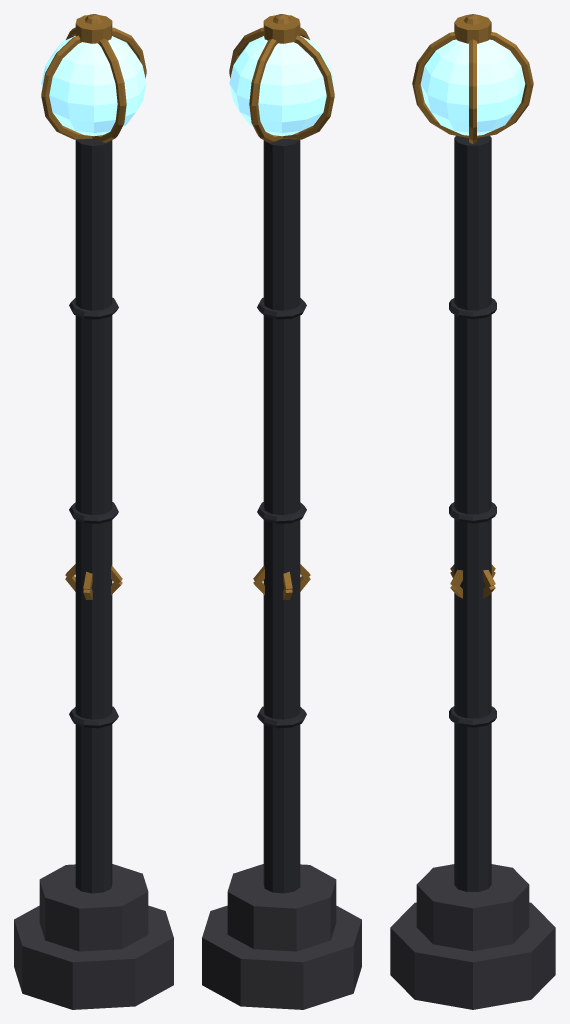
File: SM_Lamp_DvergrTech_08.glb
The picture shows the model from 3 angles, left to right: view 1: azimuth 30°, elevation 25°; view 2: azimuth 150°, elevation 25°; view 3: azimuth 270°, elevation 25°; orthographic projection.
Visible parts, largest first — view 1: SM_Lamp_DvergrTech_08_Post, SM_Lamp_DvergrTech_08_BaseStep1, SM_Lamp_DvergrTech_08_BaseStep2, SM_Lamp_DvergrTech_08_Globe, SM_Lamp_DvergrTech_08_Strap1, SM_Lamp_DvergrTech_08_Strap2, SM_Lamp_DvergrTech_08_Cap, SM_Lamp_DvergrTech_08_Rivet1, SM_Lamp_DvergrTech_08_Rivet2, SM_Lamp_DvergrTech_08_Rivet0; view 2: SM_Lamp_DvergrTech_08_Post, SM_Lamp_DvergrTech_08_BaseStep1, SM_Lamp_DvergrTech_08_BaseStep2, SM_Lamp_DvergrTech_08_Globe, SM_Lamp_DvergrTech_08_Strap1, SM_Lamp_DvergrTech_08_Strap2, SM_Lamp_DvergrTech_08_Cap, SM_Lamp_DvergrTech_08_Rivet1, SM_Lamp_DvergrTech_08_Rivet2, SM_Lamp_DvergrTech_08_Rivet0; view 3: SM_Lamp_DvergrTech_08_Post, SM_Lamp_DvergrTech_08_BaseStep1, SM_Lamp_DvergrTech_08_BaseStep2, SM_Lamp_DvergrTech_08_Globe, SM_Lamp_DvergrTech_08_Strap2, SM_Lamp_DvergrTech_08_Strap1, SM_Lamp_DvergrTech_08_Cap, SM_Lamp_DvergrTech_08_Rivet0, SM_Lamp_DvergrTech_08_Rivet1, SM_Lamp_DvergrTech_08_Rivet2.
Part boxes in pixels (x1,y1,x2,y2): SM_Lamp_DvergrTech_08_Post: (75,138,112,893); SM_Lamp_DvergrTech_08_BaseStep1: (14,905,173,1009); SM_Lamp_DvergrTech_08_BaseStep2: (39,864,148,951); SM_Lamp_DvergrTech_08_Globe: (41,36,146,136); SM_Lamp_DvergrTech_08_Strap1: (41,27,146,139); SM_Lamp_DvergrTech_08_Strap2: (66,27,126,142); SM_Lamp_DvergrTech_08_Cap: (75,15,112,43); SM_Lamp_DvergrTech_08_Rivet1: (69,502,118,523); SM_Lamp_DvergrTech_08_Rivet2: (69,297,118,319); SM_Lamp_DvergrTech_08_Rivet0: (69,706,118,728); SM_Lamp_DvergrTech_08_Post: (263,138,300,893); SM_Lamp_DvergrTech_08_BaseStep1: (202,905,361,1009); SM_Lamp_DvergrTech_08_BaseStep2: (227,864,336,951); SM_Lamp_DvergrTech_08_Globe: (229,36,334,136); SM_Lamp_DvergrTech_08_Strap1: (229,27,334,139); SM_Lamp_DvergrTech_08_Strap2: (249,27,309,142); SM_Lamp_DvergrTech_08_Cap: (263,15,300,43); SM_Lamp_DvergrTech_08_Rivet1: (257,502,306,523); SM_Lamp_DvergrTech_08_Rivet2: (257,297,306,319); SM_Lamp_DvergrTech_08_Rivet0: (257,706,306,728); SM_Lamp_DvergrTech_08_Post: (454,135,491,891); SM_Lamp_DvergrTech_08_BaseStep1: (390,902,555,1009); SM_Lamp_DvergrTech_08_BaseStep2: (416,864,529,951); SM_Lamp_DvergrTech_08_Globe: (420,39,525,135); SM_Lamp_DvergrTech_08_Strap2: (412,32,533,137); SM_Lamp_DvergrTech_08_Strap1: (469,39,476,143); SM_Lamp_DvergrTech_08_Cap: (454,15,491,43); SM_Lamp_DvergrTech_08_Rivet0: (449,706,496,727); SM_Lamp_DvergrTech_08_Rivet1: (449,502,496,523); SM_Lamp_DvergrTech_08_Rivet2: (449,298,496,319).
Size of the model in its own units: 0.44 by 2.82 by 0.44.
